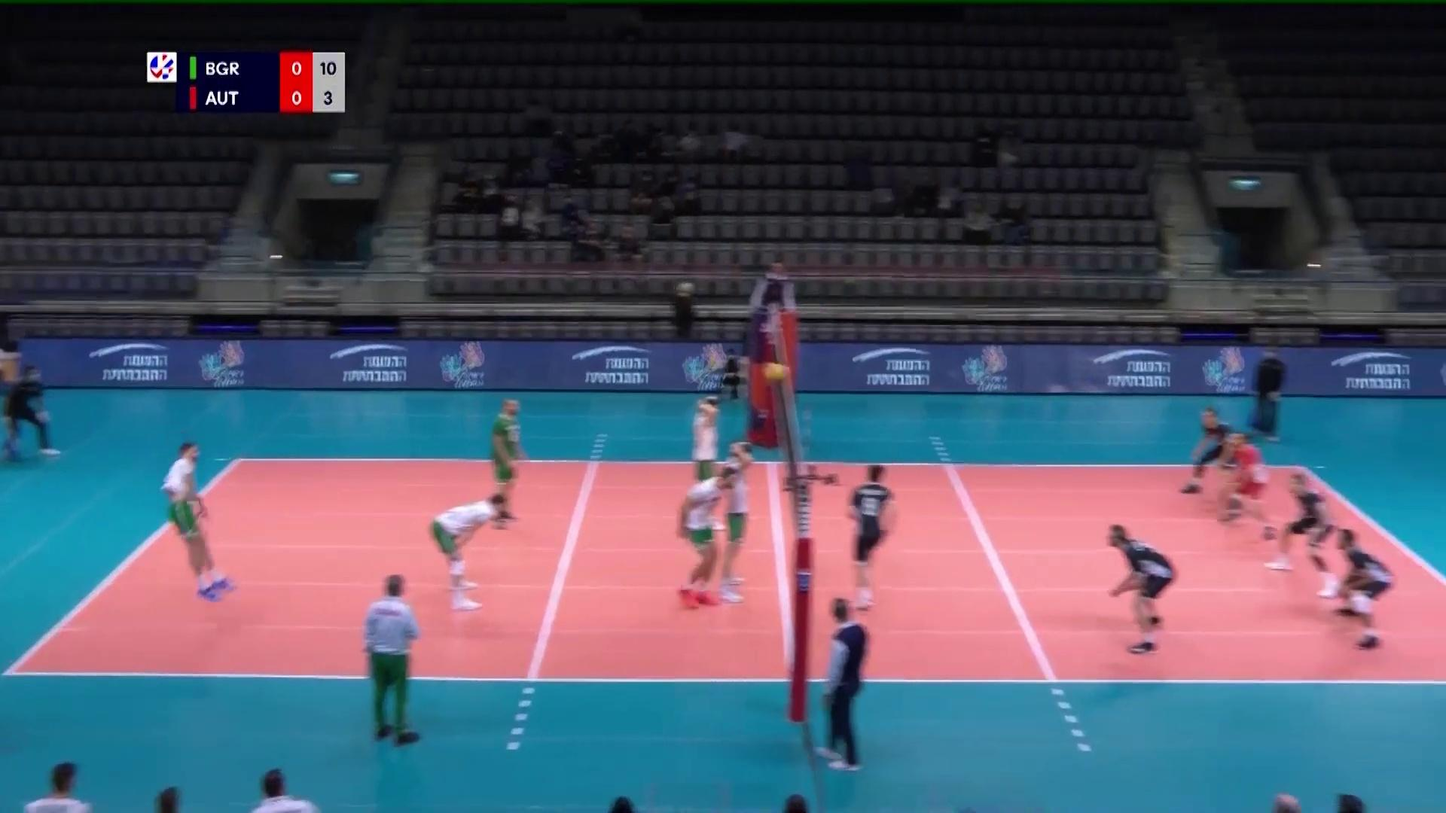ball: (763, 362, 793, 382)
